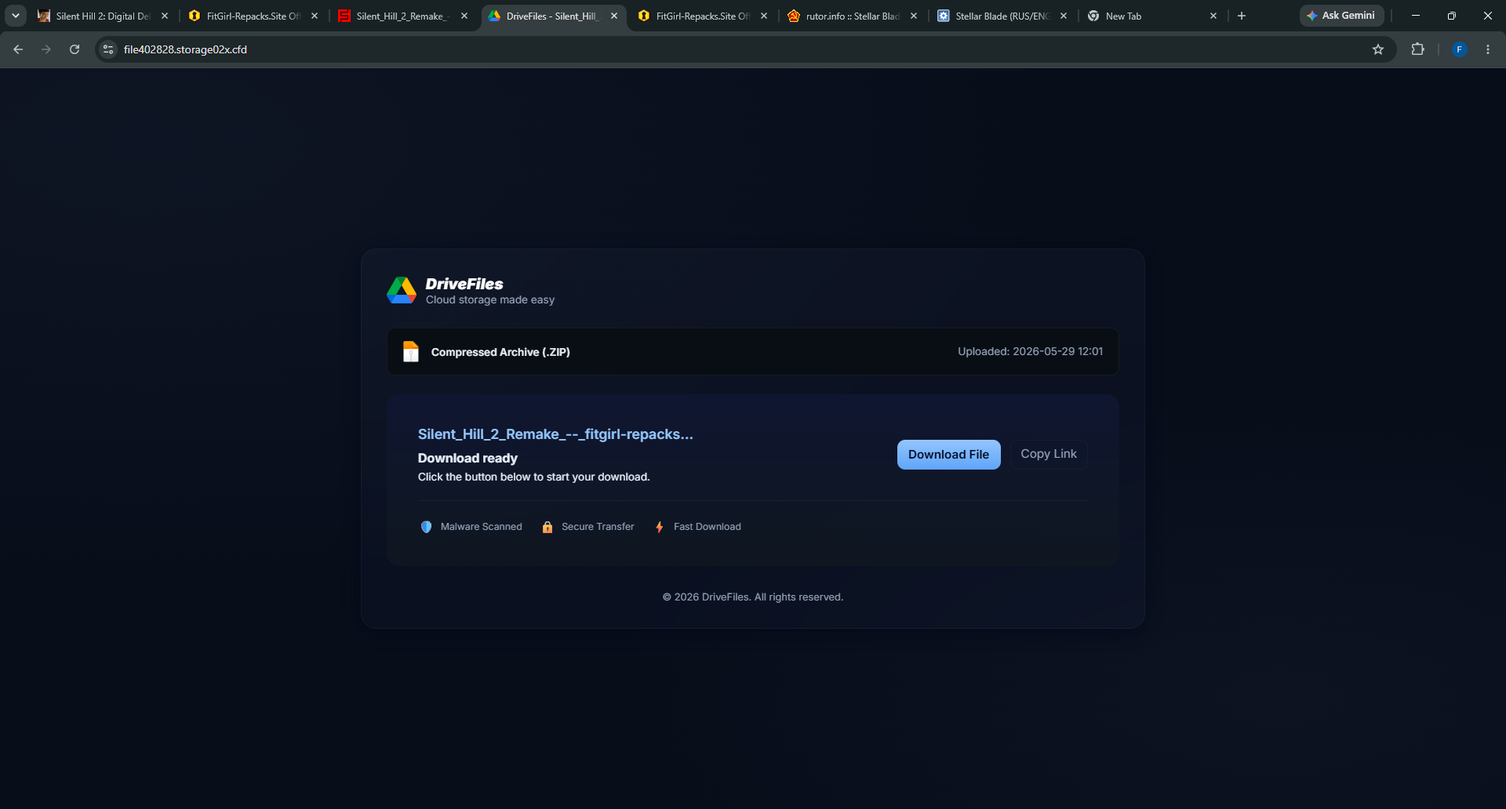fake_button: (886, 426, 1010, 485)
